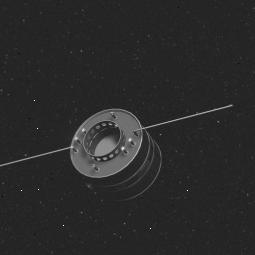double_start: (53, 96, 168, 206)
